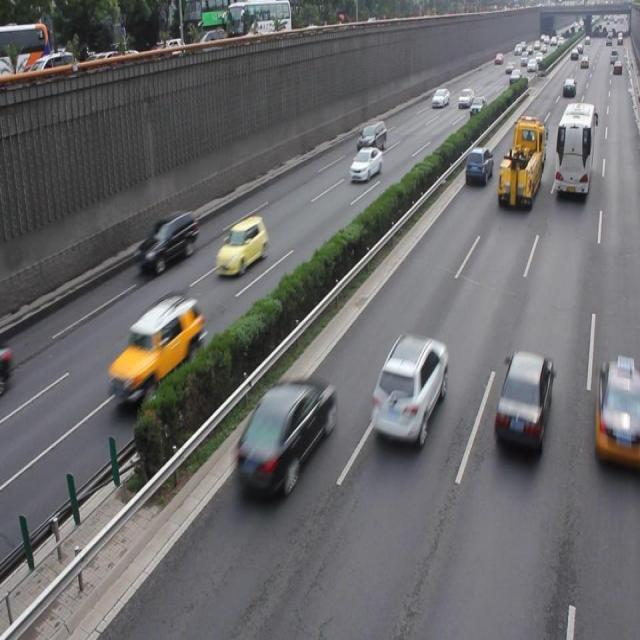bus: (496, 116, 544, 212)
car: (235, 376, 333, 496), (106, 290, 202, 406), (370, 333, 447, 447), (494, 351, 554, 451), (593, 361, 640, 471), (215, 216, 267, 276), (348, 146, 381, 183), (463, 145, 491, 186)
truck: (137, 210, 198, 276)
van: (553, 102, 594, 195)
